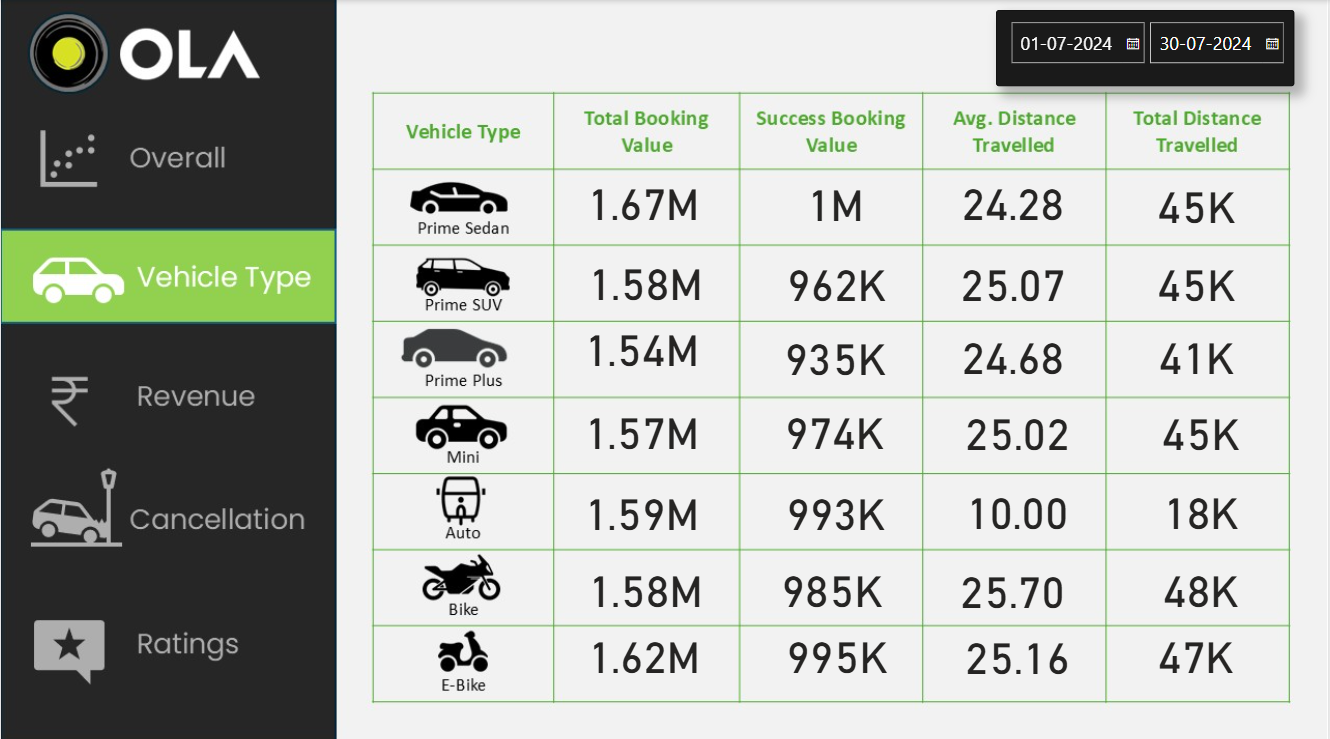

This screenshot's page, from the dashboard's own definition file:
{"tool":"powerbi","page":{"name":"Vehicle Type","canvas":[1280,720],"ordinal":1},"visuals":[{"type":"actionButton","box":[0,342.6,322.1,79.6],"z":0},{"type":"card","fields":{"Values":["Sum(July.Booking_Value)"]},"box":[541.5,162.2,156.8,63.9],"z":1000},{"type":"card","fields":{"Values":["Sum(July.Booking_Value)"]},"box":[543.6,238.4,156.1,63],"z":2000},{"type":"card","fields":{"Values":["Sum(July.Booking_Value)"]},"box":[540.7,302.8,156.1,63],"z":3000},{"type":"card","fields":{"Values":["Sum(July.Booking_Value)"]},"box":[540.7,383,156.1,63],"z":4000},{"type":"card","fields":{"Values":["Sum(July.Booking_Value)"]},"box":[540.7,460.4,156.1,63],"z":5000},{"type":"card","fields":{"Values":["Sum(July.Booking_Value)"]},"box":[543.6,536.3,156.1,63],"z":6000},{"type":"card","fields":{"Values":["Sum(July.Booking_Value)"]},"box":[543,599.7,156,62.4],"z":7000},{"type":"card","fields":{"Values":["Sum(July.Booking_Value)"]},"box":[726.9,162.5,156.1,63],"z":8000},{"type":"card","fields":{"Values":["Sum(July.Booking_Value)"]},"box":[728.3,239.8,156.1,63],"z":9000},{"type":"card","fields":{"Values":["Sum(July.Booking_Value)"]},"box":[726.9,311.4,156.1,63],"z":10000},{"type":"card","fields":{"Values":["Sum(July.Booking_Value)"]},"box":[731.2,383,147.5,63],"z":11000},{"type":"card","fields":{"Values":["Sum(July.Booking_Value)"]},"box":[732.6,460.4,147.5,63],"z":12000},{"type":"card","fields":{"Values":["Sum(July.Booking_Value)"]},"box":[728.3,536.3,147.5,63],"z":13000},{"type":"card","fields":{"Values":["Sum(July.Booking_Value)"]},"box":[733,599.7,147.5,62.4],"z":14000},{"type":"card","fields":{"Values":["Avg(July.Ride_Distance)"]},"box":[898.3,162.2,156,63.8],"z":15000},{"type":"card","fields":{"Values":["Avg(July.Ride_Distance)"]},"box":[898.3,240.2,156,62.4],"z":16000},{"type":"card","fields":{"Values":["Avg(July.Ride_Distance)"]},"box":[898.3,309.7,156,63.8],"z":17000},{"type":"card","fields":{"Values":["Avg(July.Ride_Distance)"]},"box":[906.8,383.4,147.5,62.4],"z":18000},{"type":"card","fields":{"Values":["Avg(July.Ride_Distance)"]},"box":[906.8,459.9,147.5,63.8],"z":19000},{"type":"card","fields":{"Values":["Avg(July.Ride_Distance)"]},"box":[902.6,536.5,147.5,62.4],"z":20000},{"type":"card","fields":{"Values":["Avg(July.Ride_Distance)"]},"box":[907.4,599.7,147.5,63.8],"z":21000},{"type":"card","fields":{"Values":["Sum(July.Ride_Distance)"]},"box":[1075.6,163.6,156,63.8],"z":22000},{"type":"card","fields":{"Values":["Sum(July.Ride_Distance)"]},"box":[1075.6,240.2,156,62.4],"z":23000},{"type":"card","fields":{"Values":["Sum(July.Ride_Distance)"]},"box":[1075.6,309.7,156,63.8],"z":24000},{"type":"card","fields":{"Values":["Sum(July.Ride_Distance)"]},"box":[1084.1,383.4,147.5,62.4],"z":25000},{"type":"card","fields":{"Values":["Sum(July.Ride_Distance)"]},"box":[1084.1,459.9,147.5,63.8],"z":26000},{"type":"card","fields":{"Values":["Sum(July.Ride_Distance)"]},"box":[1084.1,535.1,147.5,62.4],"z":27000},{"type":"card","fields":{"Values":["Sum(July.Ride_Distance)"]},"box":[1079.8,598.9,147.5,63.8],"z":28000},{"type":"slicer","title":"DATE","fields":{"Values":["July.Date"]},"box":[959.9,9.9,287.8,73.7],"z":29000}]}

Visuals, with their boxes on the page's 1280x720 design canvas (x1, y1, x2, y2). These are canvas units, not pixel positions in the 1330x739 screenshot, which may show the page scaled, cropped or inside an application window:
actionButton: box(0, 343, 322, 422)
card - Sum(July.Booking_Value): box(542, 162, 698, 226)
card - Sum(July.Booking_Value): box(544, 238, 700, 301)
card - Sum(July.Booking_Value): box(541, 303, 697, 366)
card - Sum(July.Booking_Value): box(541, 383, 697, 446)
card - Sum(July.Booking_Value): box(541, 460, 697, 523)
card - Sum(July.Booking_Value): box(544, 536, 700, 599)
card - Sum(July.Booking_Value): box(543, 600, 699, 662)
card - Sum(July.Booking_Value): box(727, 162, 883, 226)
card - Sum(July.Booking_Value): box(728, 240, 884, 303)
card - Sum(July.Booking_Value): box(727, 311, 883, 374)
card - Sum(July.Booking_Value): box(731, 383, 879, 446)
card - Sum(July.Booking_Value): box(733, 460, 880, 523)
card - Sum(July.Booking_Value): box(728, 536, 876, 599)
card - Sum(July.Booking_Value): box(733, 600, 880, 662)
card - Avg(July.Ride_Distance): box(898, 162, 1054, 226)
card - Avg(July.Ride_Distance): box(898, 240, 1054, 303)
card - Avg(July.Ride_Distance): box(898, 310, 1054, 374)
card - Avg(July.Ride_Distance): box(907, 383, 1054, 446)
card - Avg(July.Ride_Distance): box(907, 460, 1054, 524)
card - Avg(July.Ride_Distance): box(903, 536, 1050, 599)
card - Avg(July.Ride_Distance): box(907, 600, 1055, 664)
card - Sum(July.Ride_Distance): box(1076, 164, 1232, 227)
card - Sum(July.Ride_Distance): box(1076, 240, 1232, 303)
card - Sum(July.Ride_Distance): box(1076, 310, 1232, 374)
card - Sum(July.Ride_Distance): box(1084, 383, 1232, 446)
card - Sum(July.Ride_Distance): box(1084, 460, 1232, 524)
card - Sum(July.Ride_Distance): box(1084, 535, 1232, 598)
card - Sum(July.Ride_Distance): box(1080, 599, 1227, 663)
"DATE" slicer: box(960, 10, 1248, 84)
